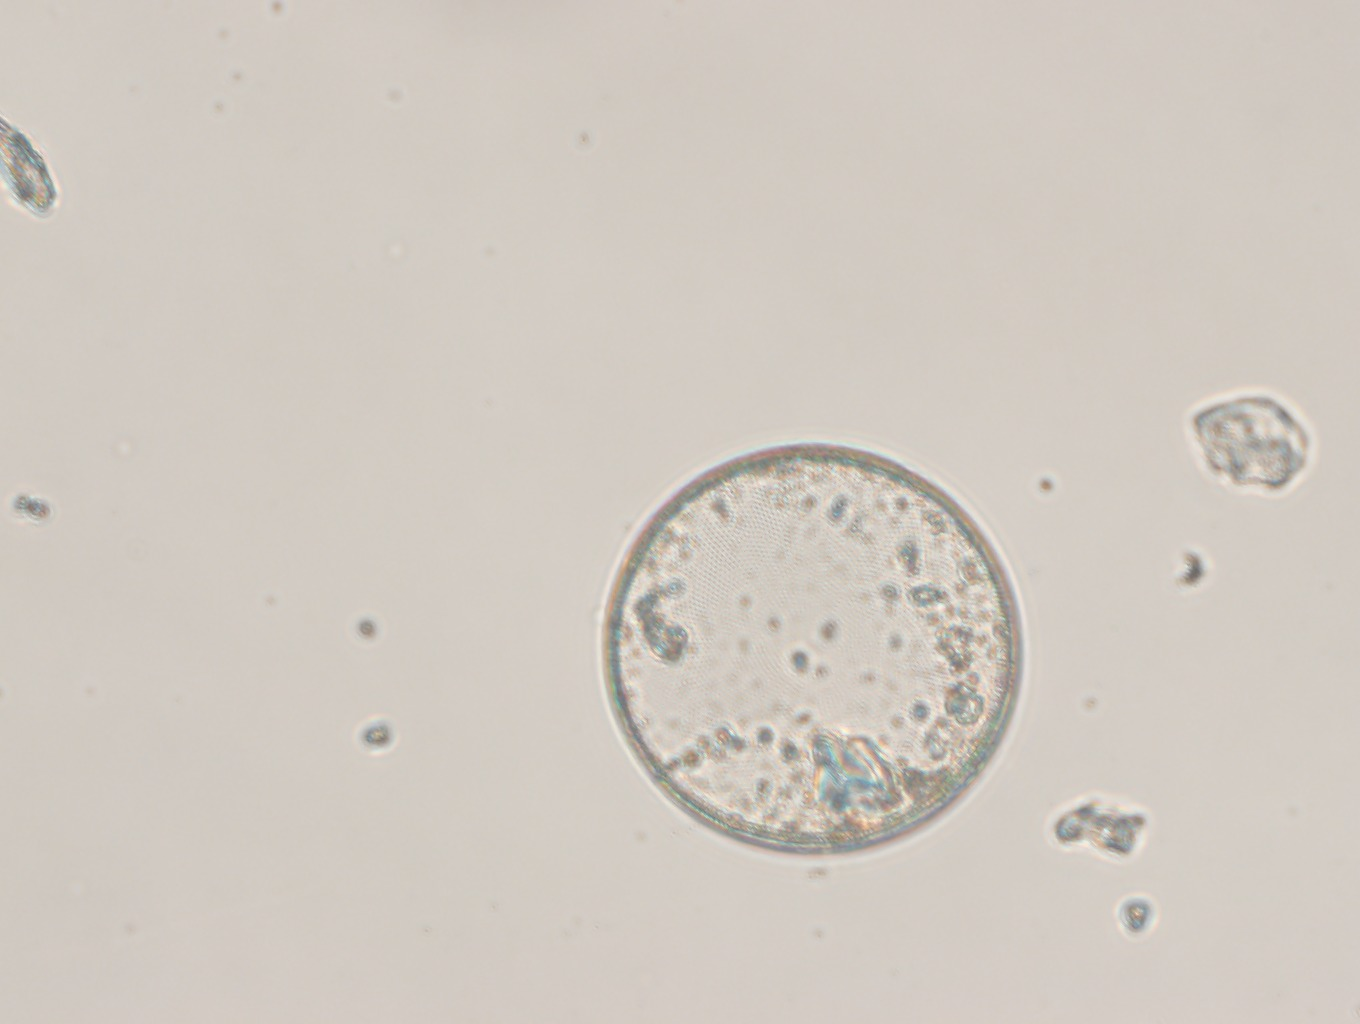coscinodiscus: (593, 441, 1032, 867)
